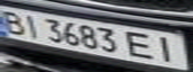3: (96, 25, 121, 55), (39, 16, 63, 44)
6: (60, 20, 81, 47)
8: (78, 22, 100, 52)
B: (0, 7, 27, 35)
E: (124, 29, 160, 61)
I: (151, 34, 184, 64), (18, 11, 45, 39)
